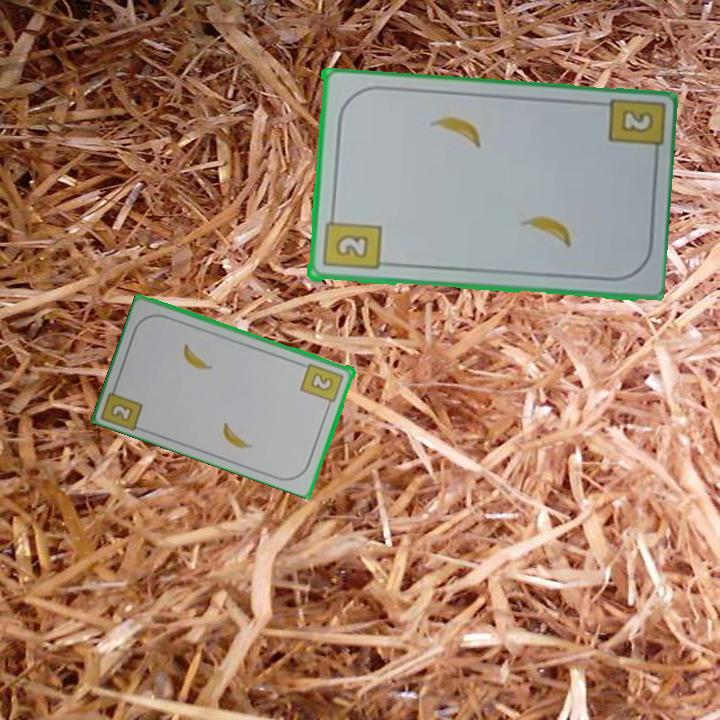2b: (319, 209, 383, 273), (297, 359, 347, 410), (616, 106, 656, 137), (107, 399, 136, 424)
